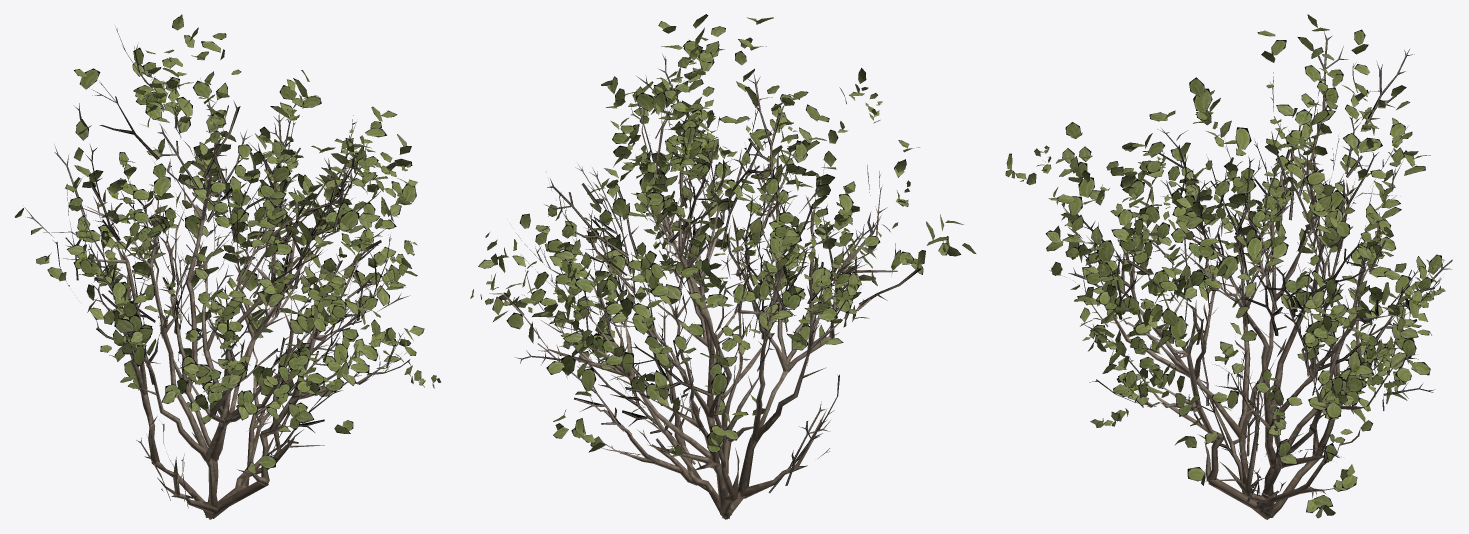
File: arbuste_searsia_a_lod0.glb
The picture shows the model from 3 angles, left to right: view 1: azimuth 30°, elevation 25°; view 2: azimuth 150°, elevation 25°; view 3: azimuth 270°, elevation 25°; orthographic projection.
Visible parts, largest first — view 1: searsia_lucida_a_LOD0; view 2: searsia_lucida_a_LOD0; view 3: searsia_lucida_a_LOD0.
Boxes of the visible parts, box(x1,y1,x2,y2) form: searsia_lucida_a_LOD0: box(15, 14, 441, 519); searsia_lucida_a_LOD0: box(470, 14, 975, 519); searsia_lucida_a_LOD0: box(1005, 14, 1452, 519).
Bounding box in the file's own units: 1.73 × 2.32 × 1.89.
Materials: 2 (2 with a texture image).
